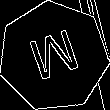M_S: (23, 25, 84, 88)
